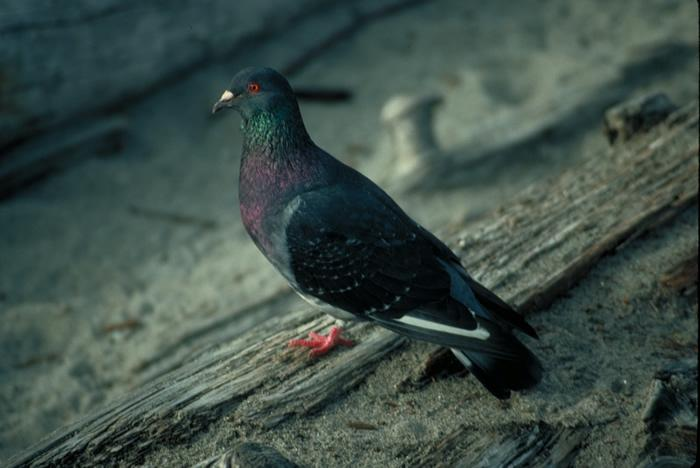Flying Rat: (208, 69, 556, 373)
